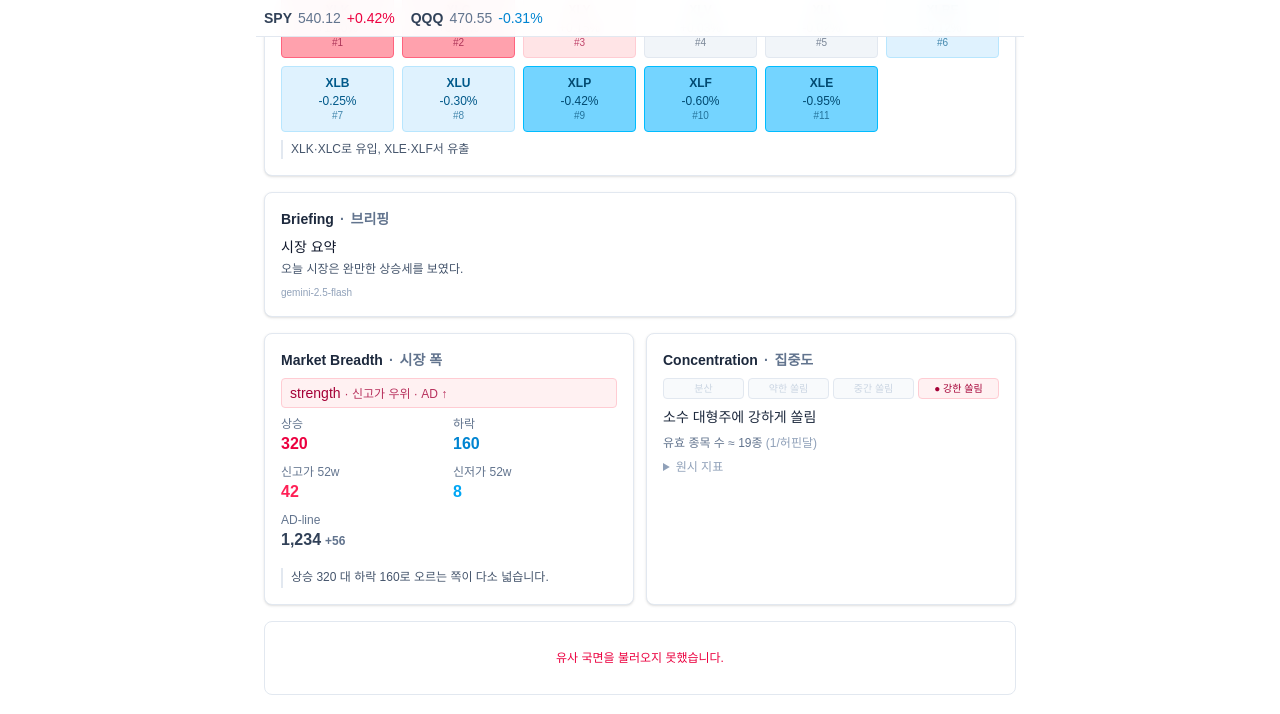
Test: 행위보존 회귀 › Concentration 카드 클릭 → Concentration drawer + detail fetch
The width and height of the screenshot is (1280, 714).
(page scrolled)
What coordinates should you click on to do the following:
click the text "Concentration"
I would click on:
 (710, 360)
Its box is [663,352,758,368].
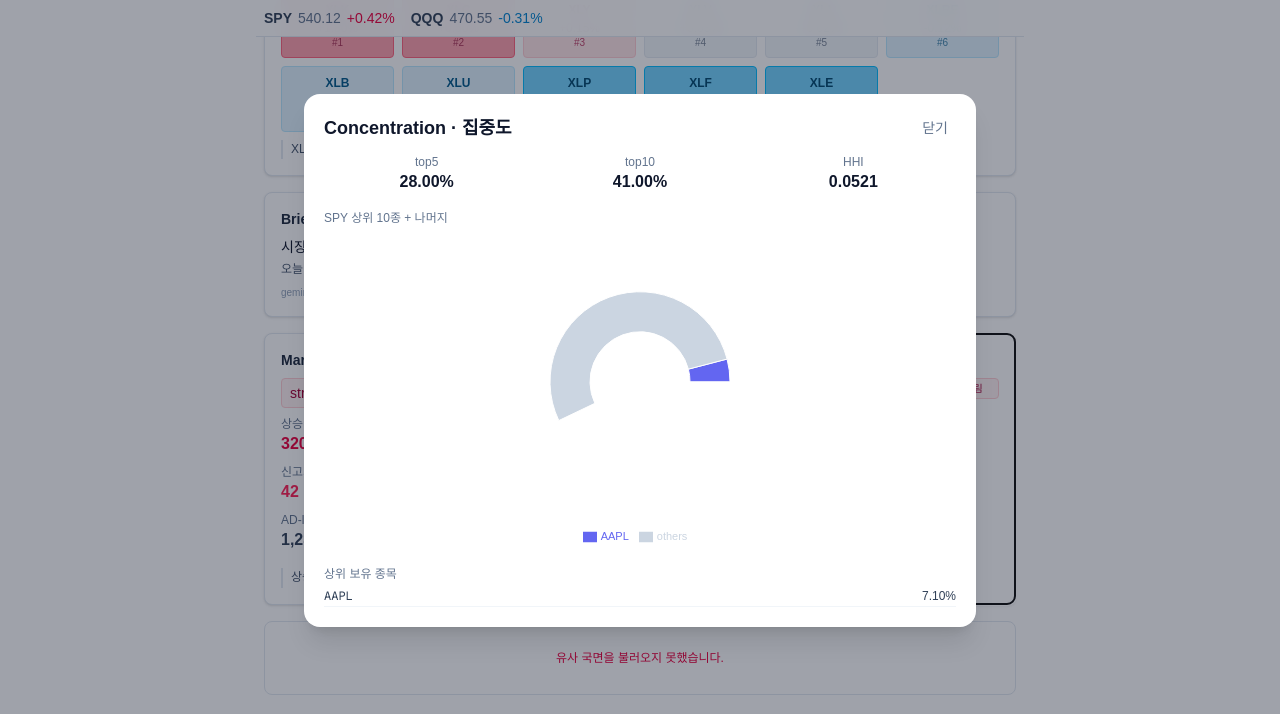
Now the heading "Concentration · 집중도" is shown, box [324,114,512,142]
Now the text "상위 보유 종목" is shown, box [324,566,397,580]
